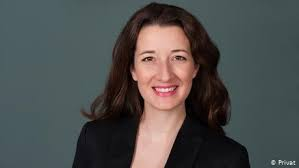middle_eastern_Female: (136, 16, 195, 105)
